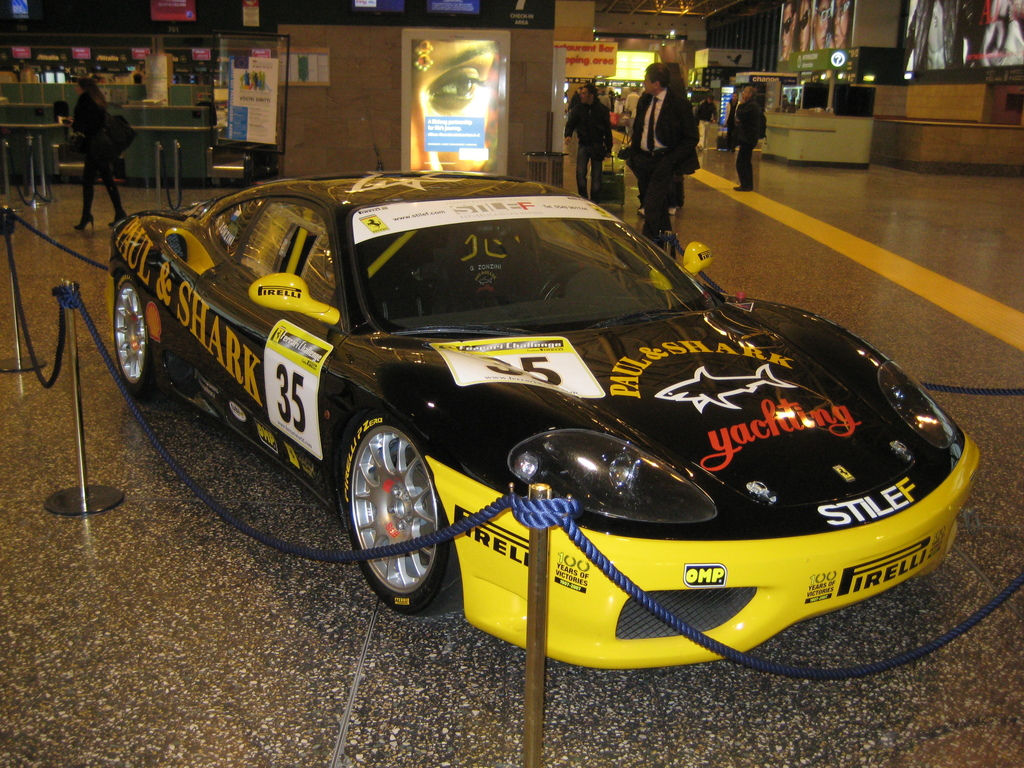Car: (127, 151, 941, 661)
